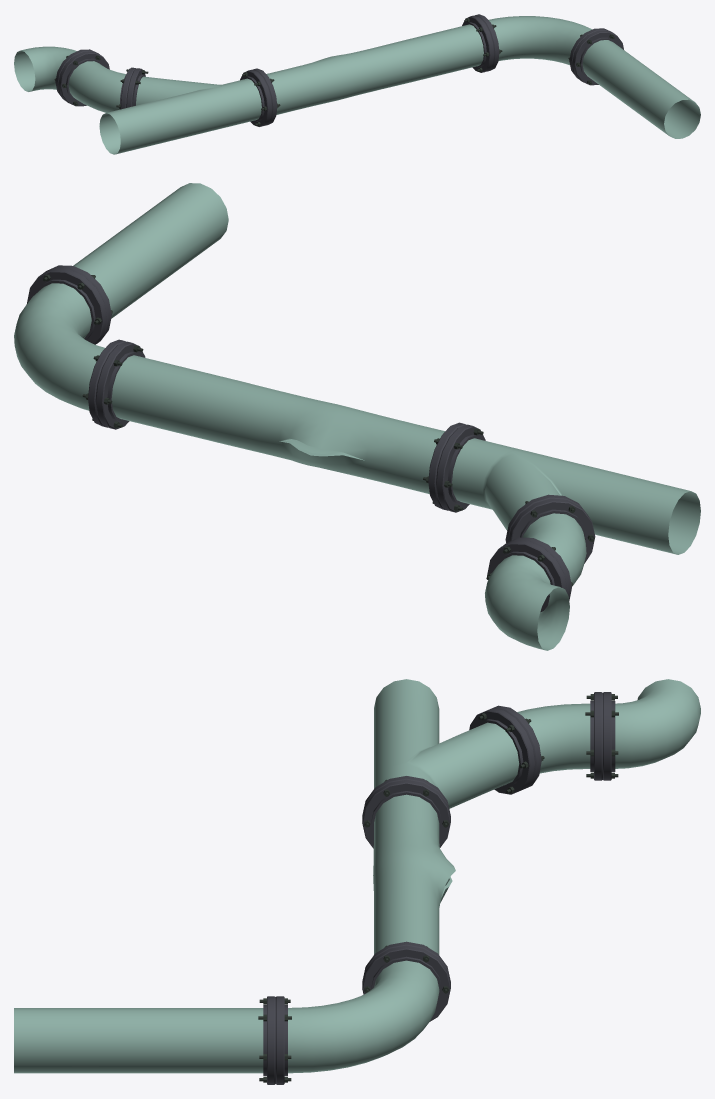
Rendered from PipeComplexLarge_A2_12.fbx.
3 renders of one model, top to bottom at view 1: azimuth 30°, elevation 25°; view 2: azimuth 150°, elevation 25°; view 3: azimuth 270°, elevation 25°, orthographic. The views are drawn at different scales.
Parts seen in each view (by area): view 1: PipeComplexLarge_A2_12.001; view 2: PipeComplexLarge_A2_12.001; view 3: PipeComplexLarge_A2_12.001.
Part boxes in pixels (box(x1,y1,x2,y2)): PipeComplexLarge_A2_12.001: box(14, 14, 700, 154); PipeComplexLarge_A2_12.001: box(14, 183, 700, 650); PipeComplexLarge_A2_12.001: box(14, 679, 700, 1084).
Size of the model in its own units: 2.54 by 0.2712 by 2.1.
